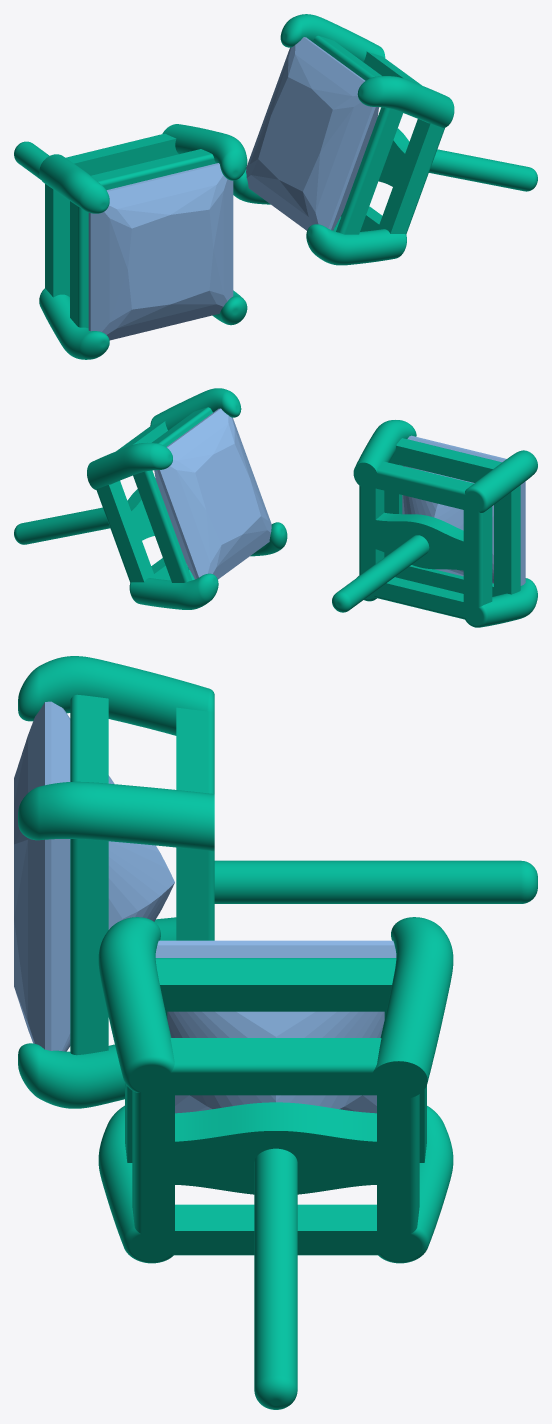
The picture shows the model from 3 angles, top to bottom: view 1: azimuth 30°, elevation 25°; view 2: azimuth 150°, elevation 25°; view 3: azimuth 270°, elevation 25°; orthographic projection. The views are drawn at different scales.
Visible parts, largest first — view 1: Diamond_Princess (×2), Bezel (×4), Head Prong (×8), VEAR704.3dm; view 2: Bezel (×4), Diamond_Princess (×2), Head Prong (×7), VEAR704.3dm; view 3: Bezel (×4), Head Prong (×7), VEAR704.3dm, Diamond_Princess (×2).
Boxes of the visible parts, <box> form: Diamond_Princess (×2): <box>88,37,378,340</box>; Bezel (×4): <box>45,35,444,328</box>; Head Prong (×8): <box>39,14,454,359</box>; VEAR704.3dm: <box>14,128,537,191</box>; Bezel (×4): <box>96,407,520,620</box>; Diamond_Princess (×2): <box>154,408,525,585</box>; Head Prong (×7): <box>87,388,537,627</box>; VEAR704.3dm: <box>14,489,463,612</box>; Bezel (×4): <box>70,694,426,1255</box>; Head Prong (×7): <box>18,656,453,1263</box>; VEAR704.3dm: <box>166,860,537,1409</box>; Diamond_Princess (×2): <box>14,701,396,1113</box>.
Size of the model in its own units: 3.43 by 1.18 by 1.68.
